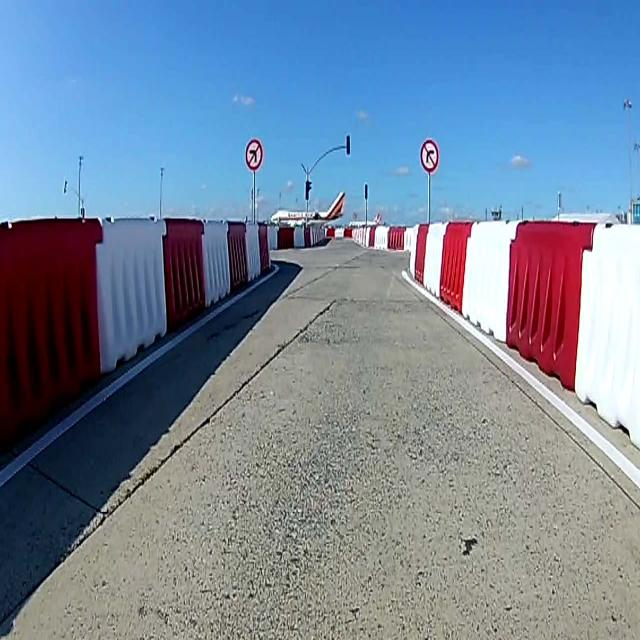sagadonulmez: (421, 140, 439, 174)
soladonulmez: (244, 137, 263, 171)
